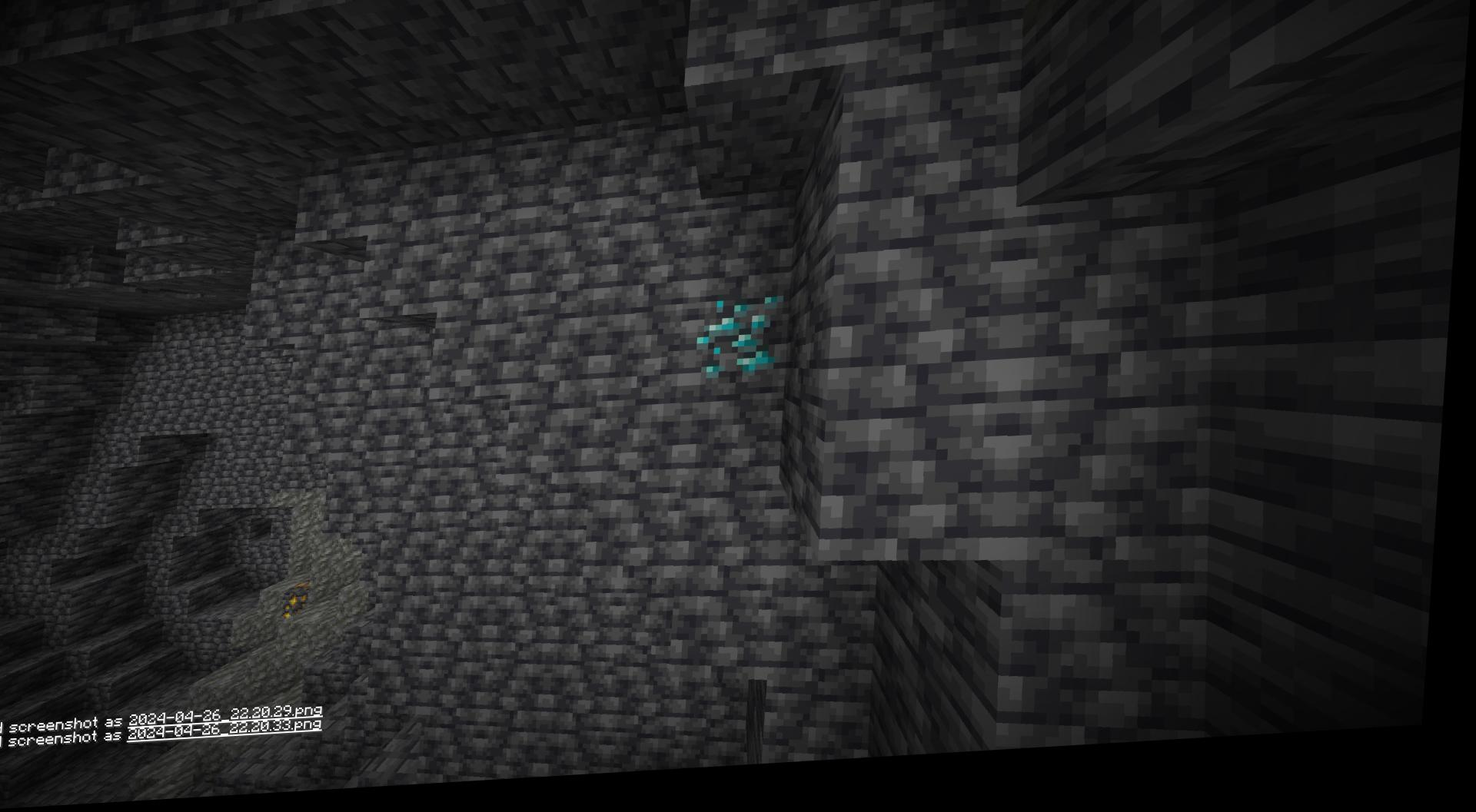diamond ore: (695, 302, 785, 390)
gold ore: (291, 585, 325, 621)
